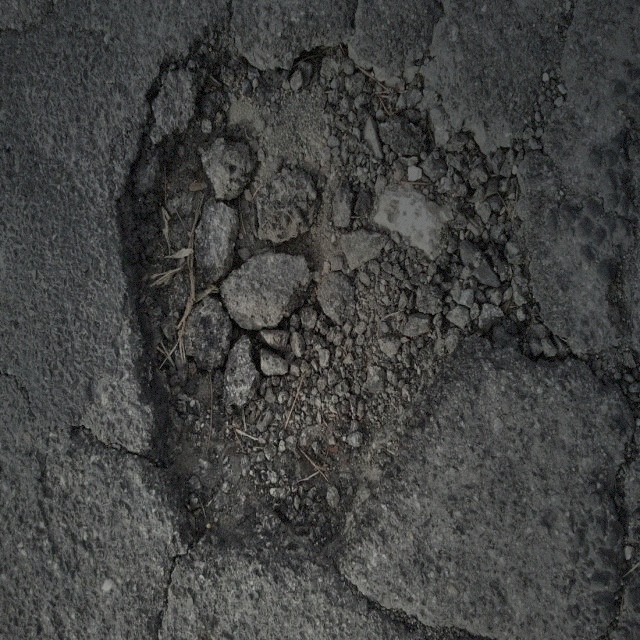pothole: (106, 31, 546, 580)
